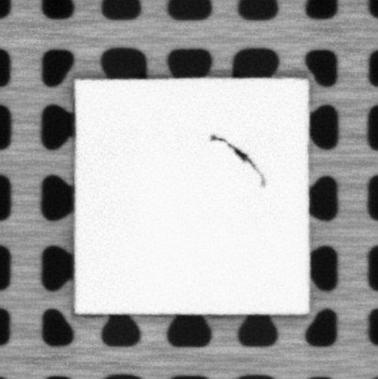DIE_INK: (209, 132, 266, 189)
